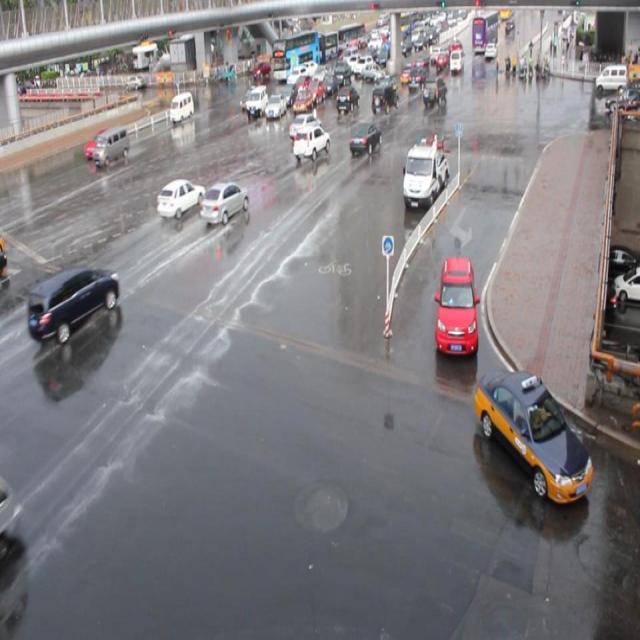bus: (401, 135, 448, 203)
car: (473, 366, 592, 502), (27, 263, 119, 343), (432, 256, 478, 354), (199, 180, 249, 223), (156, 178, 205, 219), (291, 123, 330, 160), (348, 121, 381, 153), (370, 83, 399, 114), (288, 112, 321, 138), (420, 77, 447, 106), (84, 129, 111, 157), (335, 84, 359, 112), (238, 84, 262, 108), (264, 90, 286, 116), (291, 85, 312, 112), (305, 75, 324, 99), (279, 79, 298, 101), (292, 70, 310, 92)
truck: (93, 124, 130, 166), (1, 476, 20, 543), (170, 90, 193, 122), (248, 84, 270, 115)
